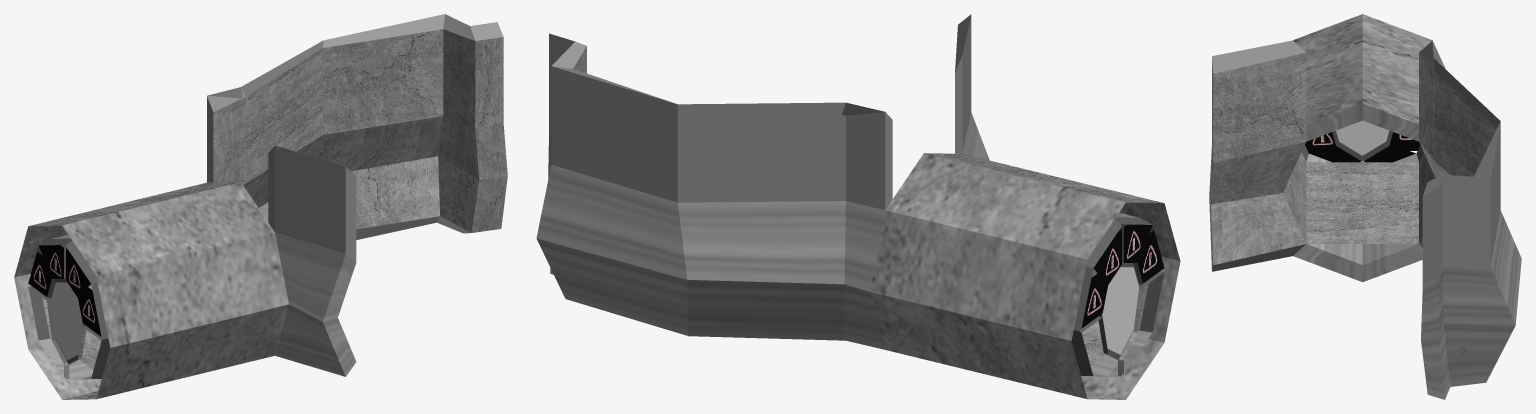
The model's file is WALL_ACHTUNG.fbx.
3 views of the same model, side by side, from view 1: azimuth 30°, elevation 25°; view 2: azimuth 150°, elevation 25°; view 3: azimuth 270°, elevation 25° (orthographic). The views are drawn at different scales.
Visible parts, largest first — view 1: Wall; view 2: Wall; view 3: Wall.
Boxes of the visible parts, <box> form: Wall: <box>14,14,507,399</box>; Wall: <box>536,14,1180,399</box>; Wall: <box>1209,14,1521,399</box>.
Bounding box in the file's own units: 5553 × 2644 × 3091.
